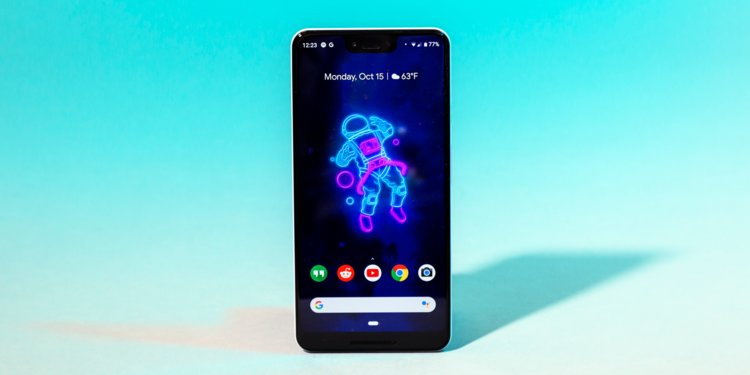phone: (287, 25, 460, 359)
